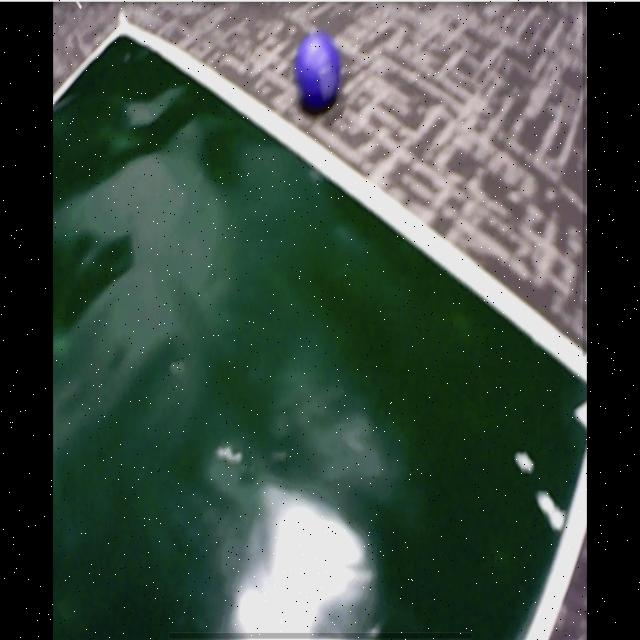ball: (296, 36, 340, 106)
